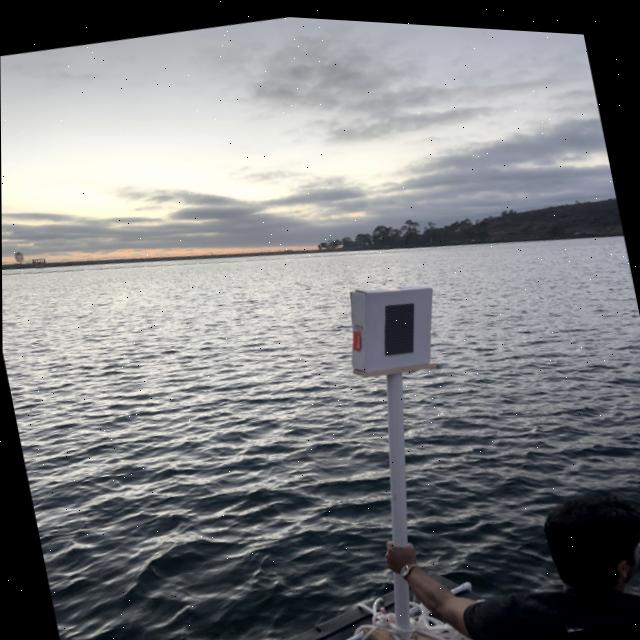led: (361, 282, 435, 373)
